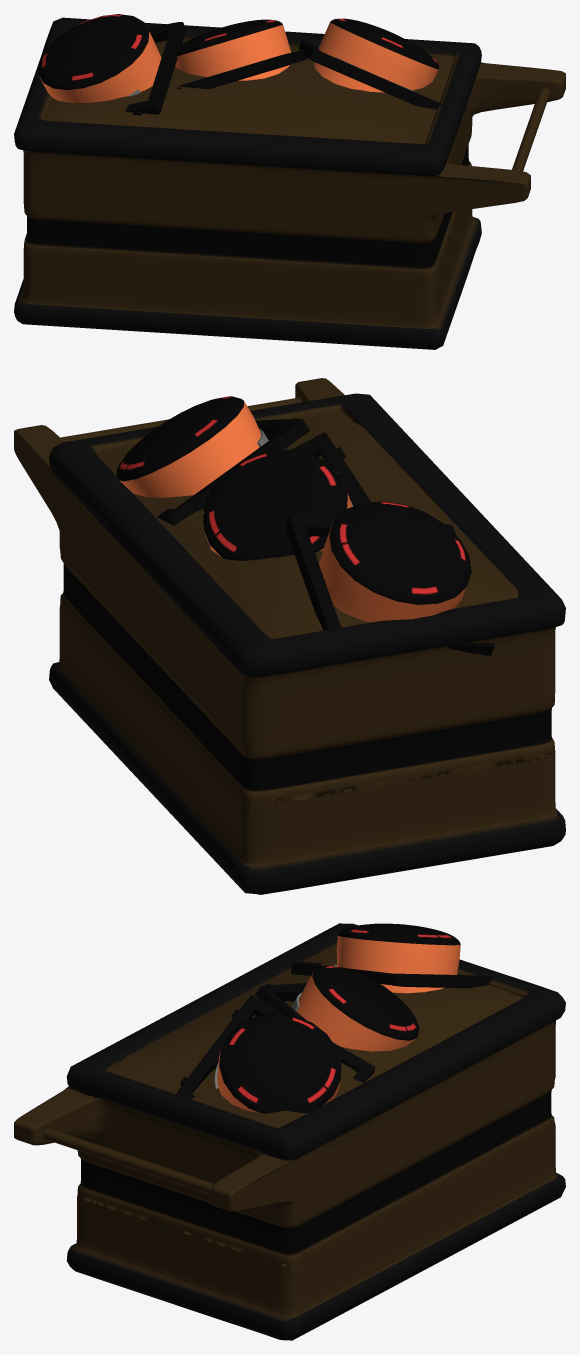
File: Carreta.fbx
The picture shows the model from 3 angles, top to bottom: view 1: azimuth 30°, elevation 25°; view 2: azimuth 150°, elevation 25°; view 3: azimuth 270°, elevation 25°; orthographic projection. The views are drawn at different scales.
Visible parts, largest first — view 1: Carrito; view 2: Carrito; view 3: Carrito.
Boxes of the visible parts, box(x1,y1,x2,y2) form: Carrito: box(14, 14, 565, 349); Carrito: box(14, 378, 565, 894); Carrito: box(14, 923, 565, 1340).
Bounding box in the file's own units: 301 × 280 × 146.
